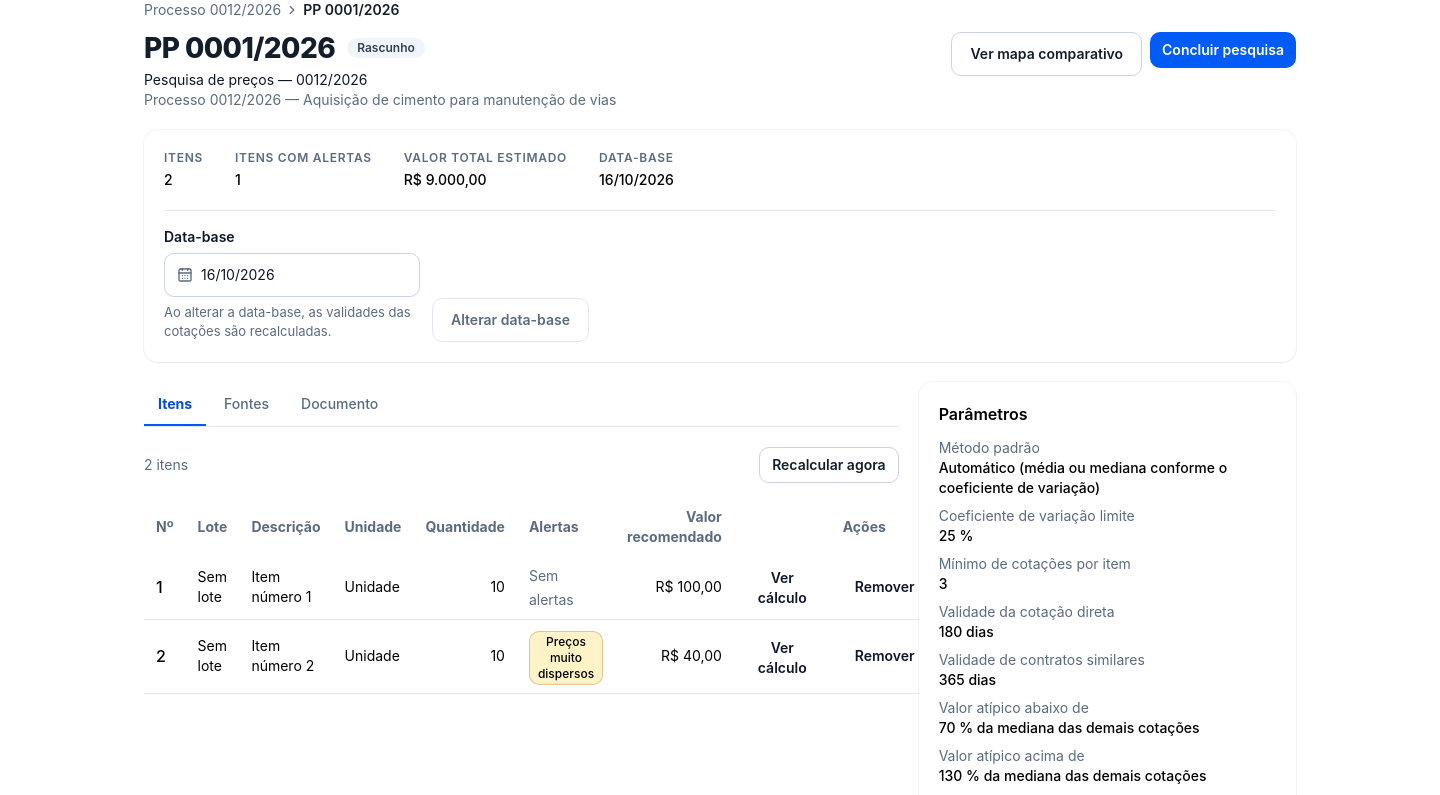
Scenario: Concluir pesquisa (SCR-009 · US-032) › 503: o diálogo continua aberto com "Tentar novamente" e o código do erro
Click the button "Concluir pesquisa".
click(1223, 50)  # box [1150,32,1296,68]
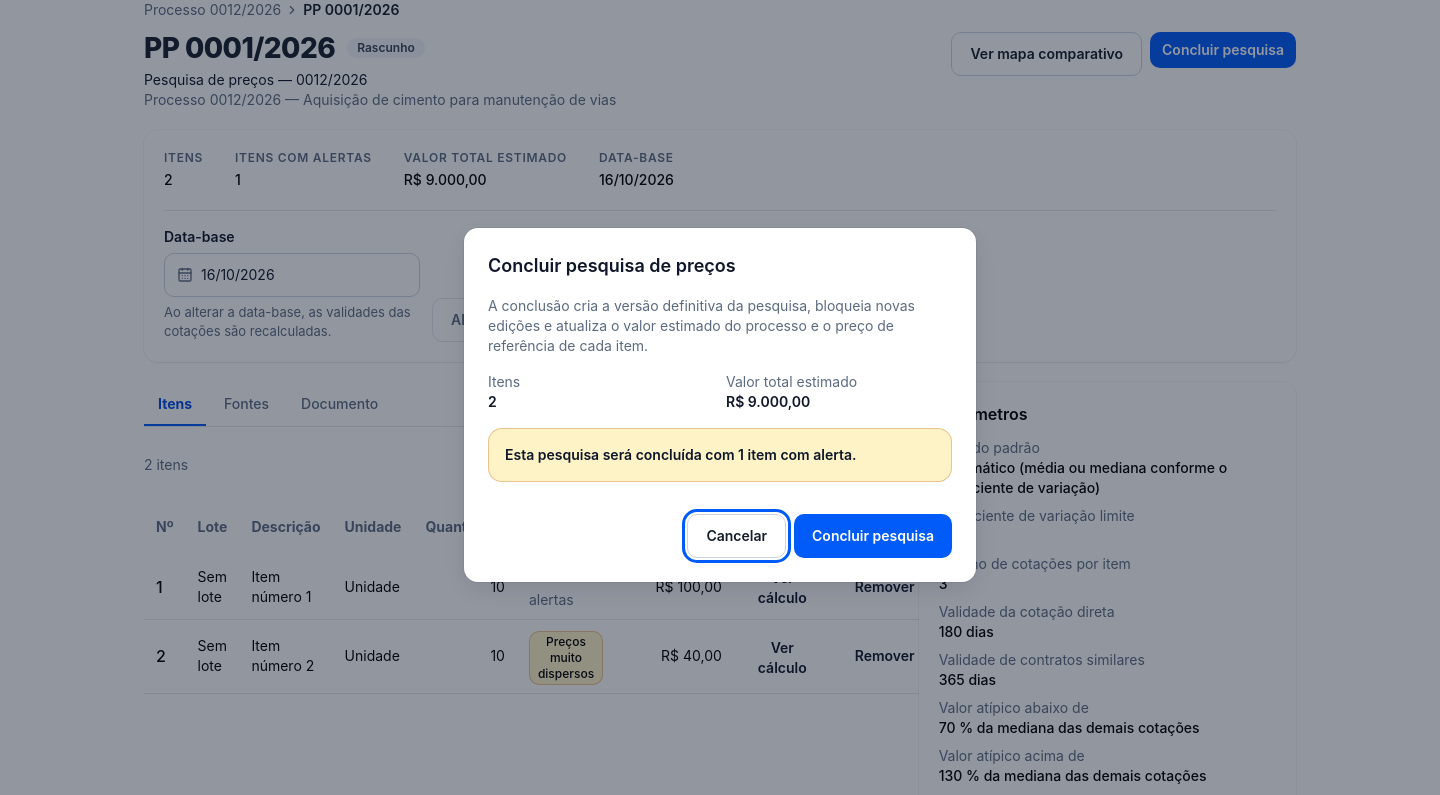
Click the button "Concluir pesquisa".
click(873, 536)  # box [794,514,952,558]
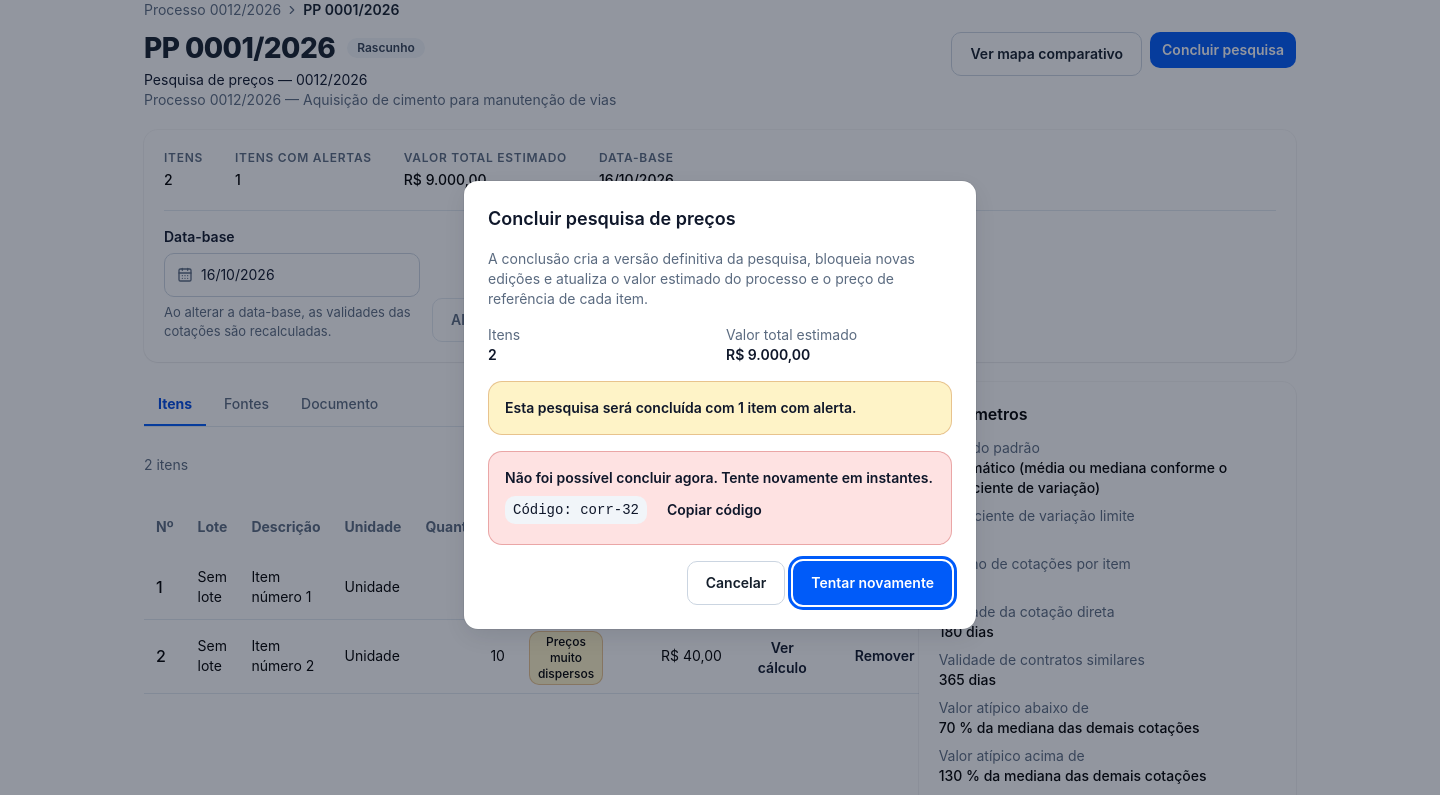
Expected: the text "Não foi possível concluir agora. Tente novamente em instantes." is shown, [505,468,935,488]
Expected: the text "Código: corr-32" is shown, [505,496,647,524]
Expected: the button "Tentar novamente" is shown, [793,561,952,605]
